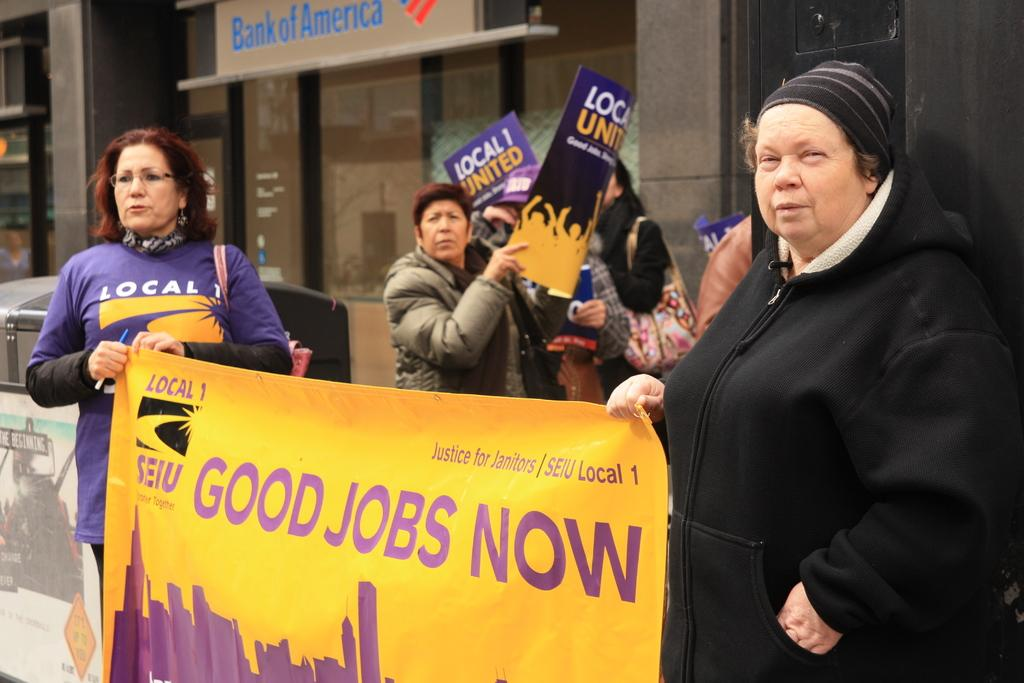Sem Máscara: (743, 104, 869, 236), (115, 131, 178, 231), (420, 196, 467, 252)
